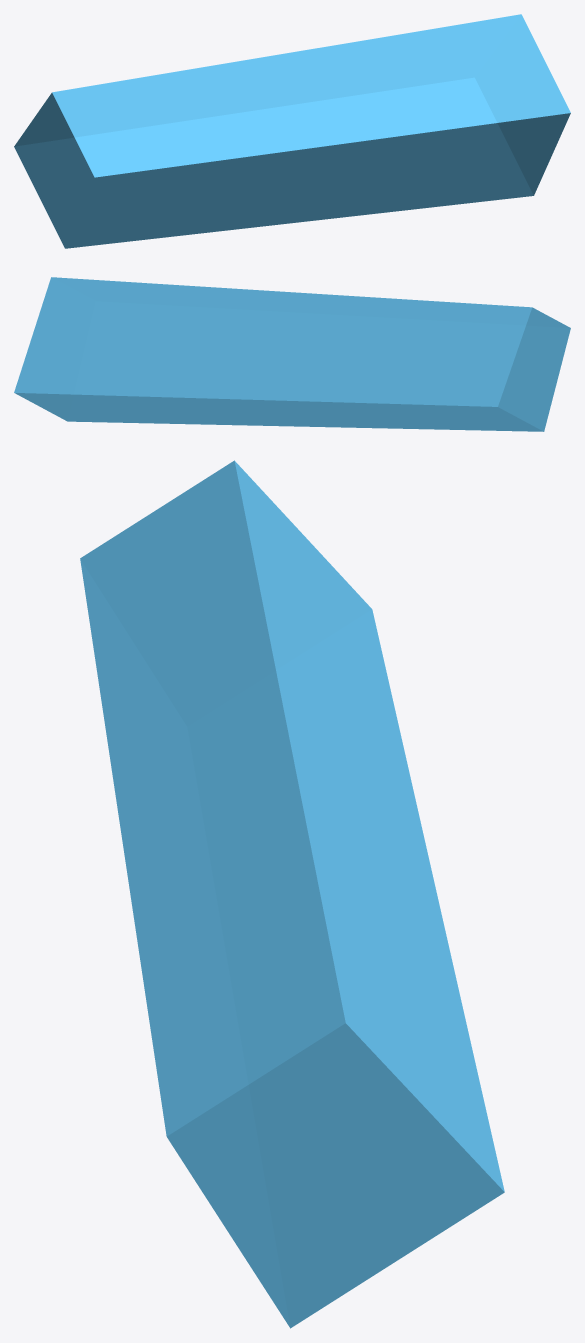
The model's file is Event_421556567_HErechit_34.fbx.
3 renders of one model, top to bottom at view 1: azimuth 30°, elevation 25°; view 2: azimuth 150°, elevation 25°; view 3: azimuth 270°, elevation 25°, orthographic. The views are drawn at different scales.
Parts seen in each view (by area): view 1: Model; view 2: Model; view 3: Model.
Part boxes in pixels (left/top/right/bottom): Model: left=14, top=14, right=570, bottom=248; Model: left=14, top=277, right=570, bottom=431; Model: left=80, top=460, right=504, bottom=1328.
Bounding box in the file's own units: 1.63 × 0.7344 × 0.6604.
